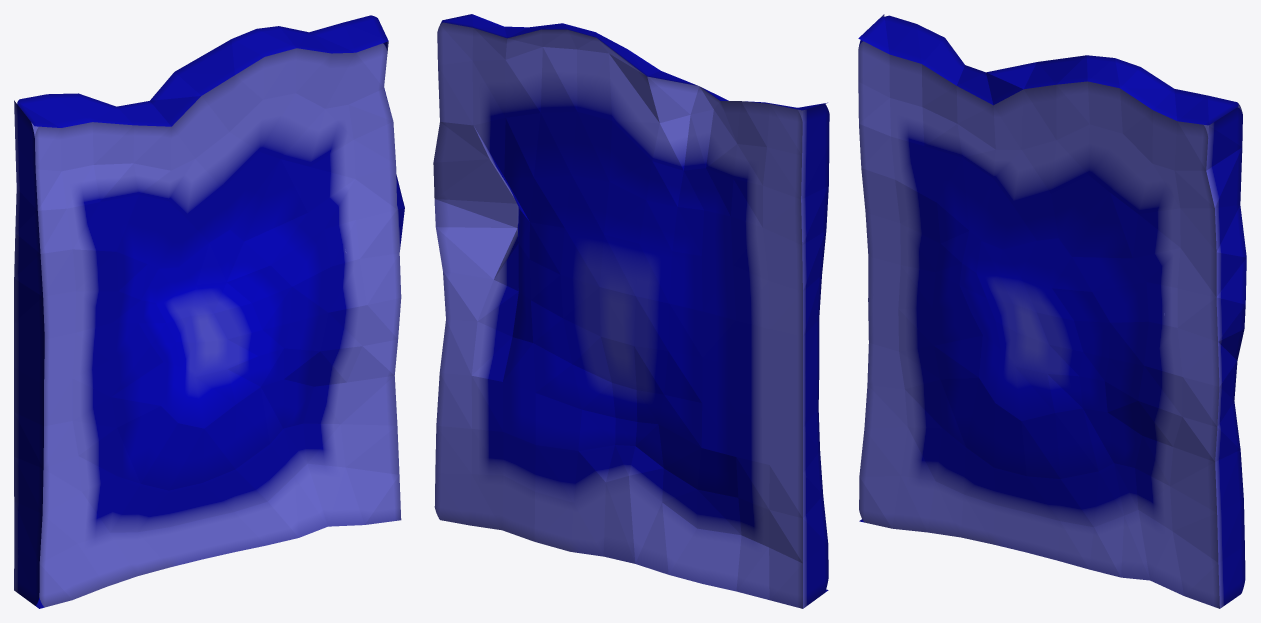
The model's file is blue_moongate_0777x07.obj.
3 renders of one model, left to right at view 1: azimuth 30°, elevation 25°; view 2: azimuth 150°, elevation 25°; view 3: azimuth 330°, elevation 25°, orthographic.
Parts seen in each view (by area): view 1: blue_moongate_0777x07; view 2: blue_moongate_0777x07; view 3: blue_moongate_0777x07.
Part boxes in pixels (left/top/right/bottom): blue_moongate_0777x07: left=14, top=15, right=404, bottom=608; blue_moongate_0777x07: left=433, top=14, right=829, bottom=608; blue_moongate_0777x07: left=858, top=14, right=1246, bottom=608.
Size of the model in its own units: 4.32 by 5.53 by 0.5329.
